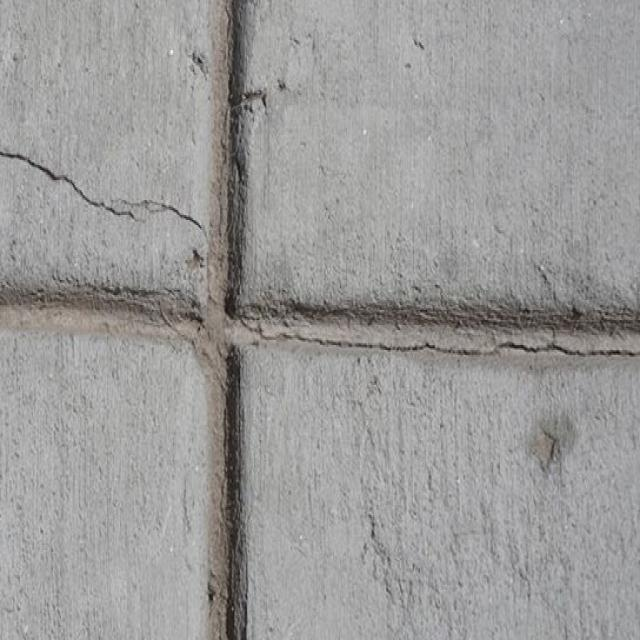crack: (1, 144, 206, 234)
